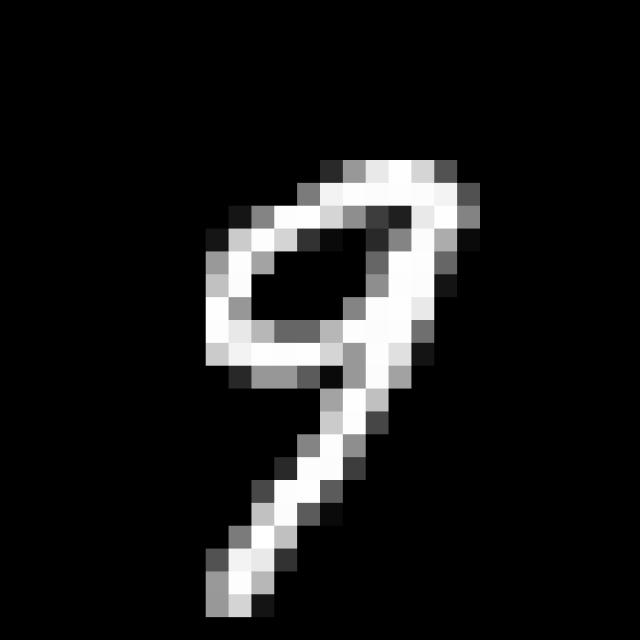nine -9-: (194, 153, 486, 627)
